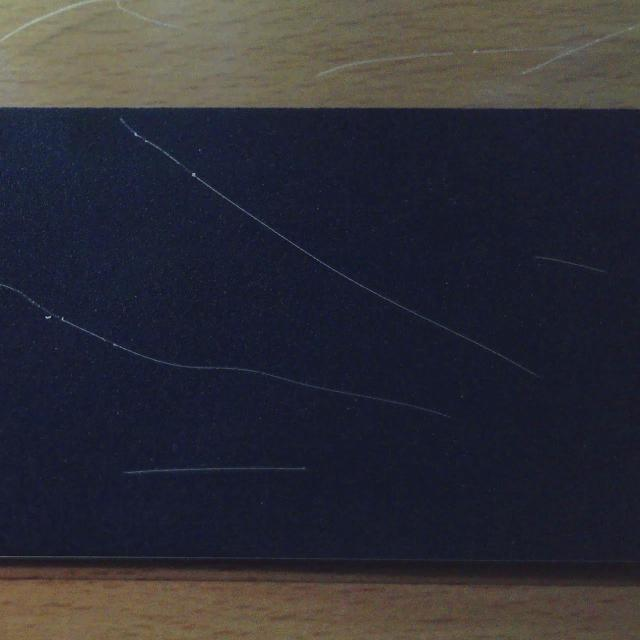defect: (120, 115, 540, 377), (0, 281, 454, 419), (120, 463, 310, 477), (535, 250, 608, 276)
